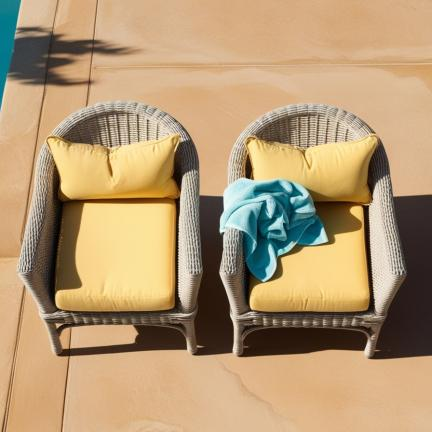empty chair: (17, 101, 202, 354)
occupied chair: (219, 104, 406, 357)
